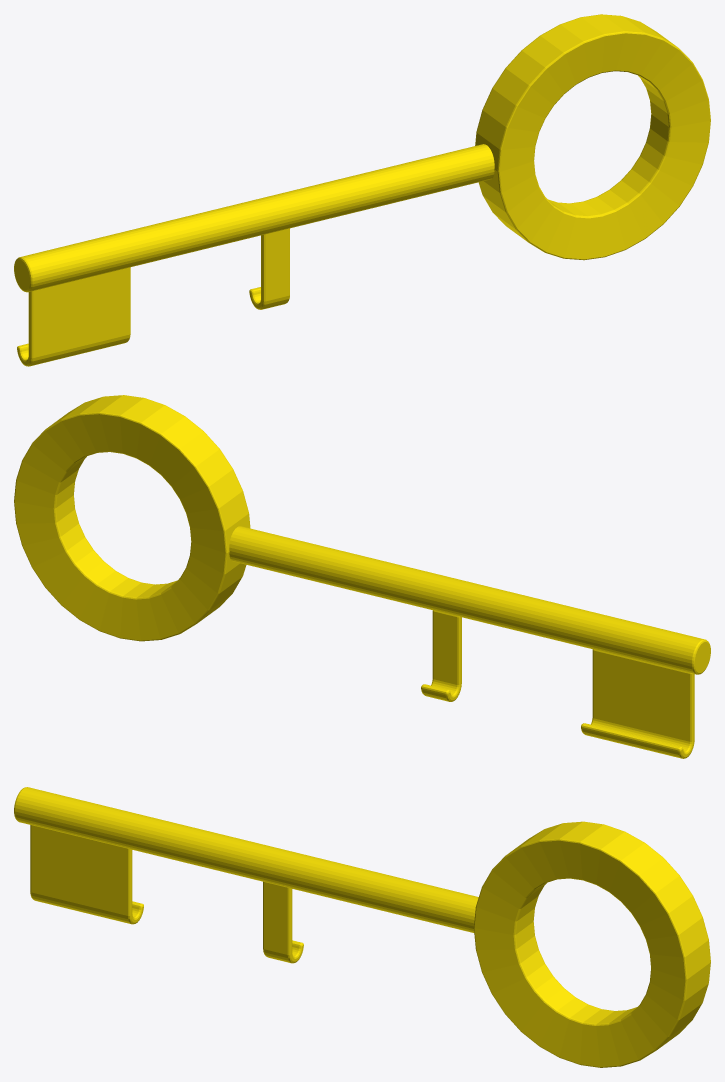
Rendered from key.fbx.
3 renders of one model, top to bottom at view 1: azimuth 30°, elevation 25°; view 2: azimuth 150°, elevation 25°; view 3: azimuth 330°, elevation 25°, orthographic.
Visible parts, largest first — view 1: key; view 2: key; view 3: key.
Boxes of the visible parts, x1,y1,x2,y2 form: key: (14, 14, 710, 366); key: (14, 395, 710, 758); key: (14, 787, 710, 1067).
Bounding box in the file's own units: 9.04 × 2.85 × 0.6328.
